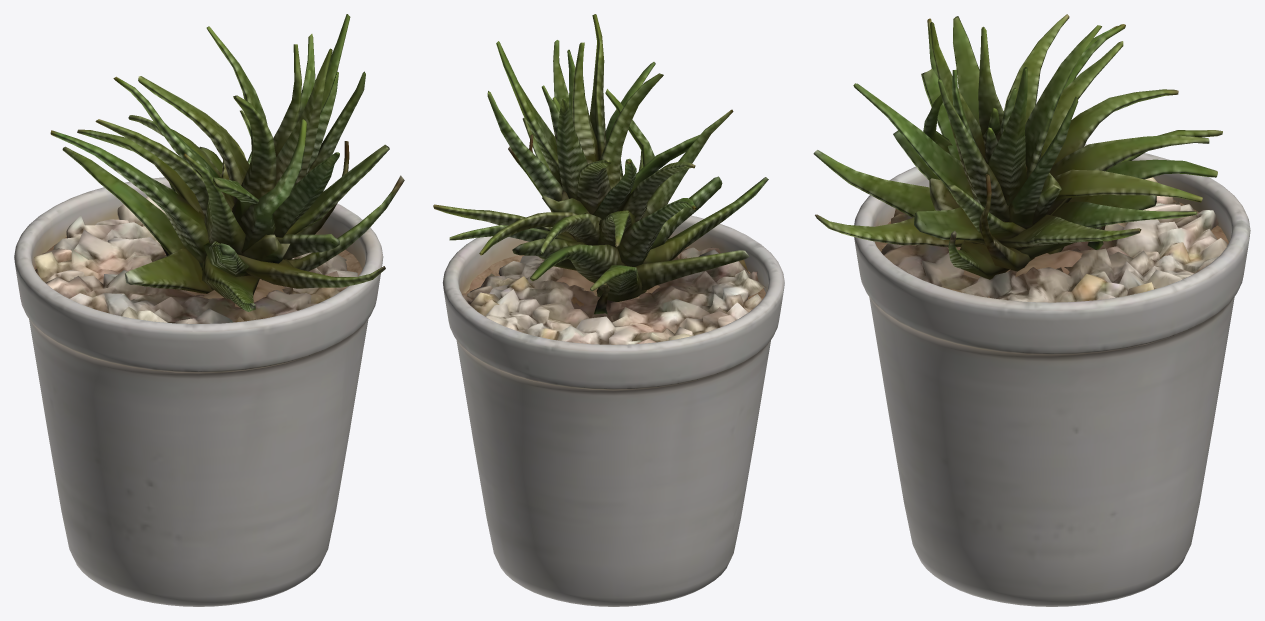
File: potted_plant_04.dd24d934.glb
3 views of the same model, side by side, from view 1: azimuth 30°, elevation 25°; view 2: azimuth 150°, elevation 25°; view 3: azimuth 270°, elevation 25° (orthographic). The views are drawn at different scales.
Parts seen in each view (by area): view 1: potted_plant_04_pot, potted_plant_04_plant, potted_plant_04_ground, potted_plant_04_dirt; view 2: potted_plant_04_pot, potted_plant_04_plant, potted_plant_04_ground, potted_plant_04_dirt; view 3: potted_plant_04_pot, potted_plant_04_plant, potted_plant_04_ground, potted_plant_04_dirt.
Boxes of the visible parts, box(x1,y1,x2,y2) form: potted_plant_04_pot: box(14, 177, 383, 606); potted_plant_04_plant: box(50, 14, 404, 311); potted_plant_04_ground: box(34, 196, 357, 323); potted_plant_04_dirt: box(34, 236, 362, 307); potted_plant_04_pot: box(442, 215, 784, 606); potted_plant_04_plant: box(433, 14, 768, 314); potted_plant_04_ground: box(462, 247, 765, 344); potted_plant_04_dirt: box(462, 247, 765, 306); potted_plant_04_pot: box(854, 144, 1250, 606); potted_plant_04_plant: box(813, 14, 1222, 279); potted_plant_04_ground: box(881, 177, 1227, 302); potted_plant_04_dirt: box(875, 200, 1228, 297).
Size of the model in its own units: 0.6277 by 1 by 0.6908.
Materials: 1 (1 with a texture image).
